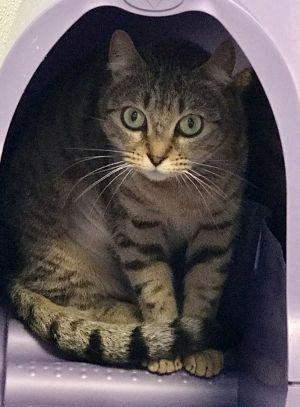bengal: (94, 19, 253, 195)
